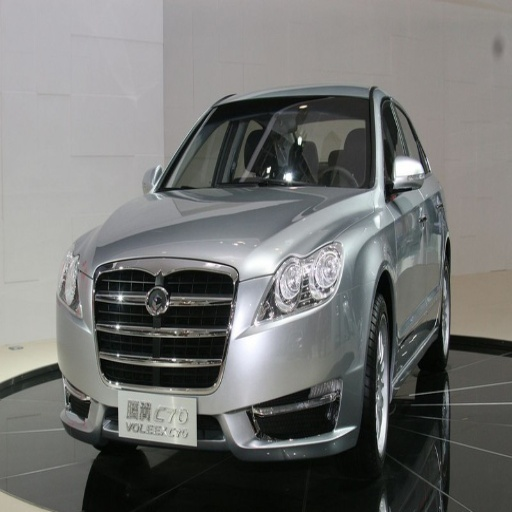front_bumper: (56, 257, 367, 462)
front_glass: (154, 95, 371, 191)
front_left_door: (380, 100, 428, 354)
front_left_light: (246, 242, 343, 331)
front_right_light: (58, 242, 85, 318)
